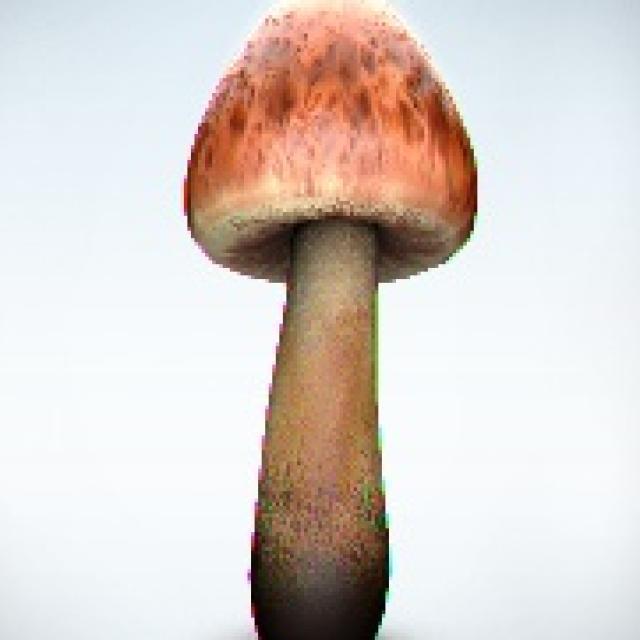mushroom: (173, 0, 484, 640)
